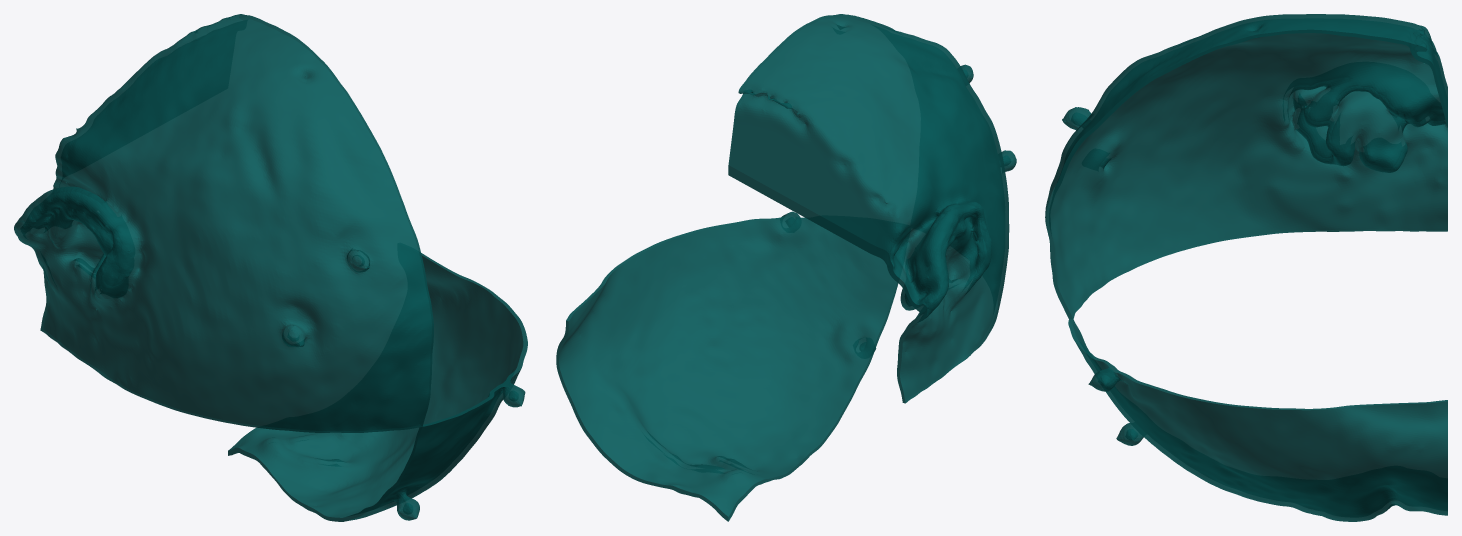
The model's file is Scalp_quadrants.obj.
3 views of the same model, side by side, from view 1: azimuth 30°, elevation 25°; view 2: azimuth 150°, elevation 25°; view 3: azimuth 270°, elevation 25° (orthographic). The views are drawn at different scales.
Visible parts, largest first — view 1: grp1; view 2: grp1; view 3: grp1.
Boxes of the visible parts, x1,y1,x2,y2 form: grp1: (14, 14, 527, 521); grp1: (556, 14, 1016, 521); grp1: (1045, 14, 1447, 521).
Bounding box in the file's own units: 164 × 179 × 143.
